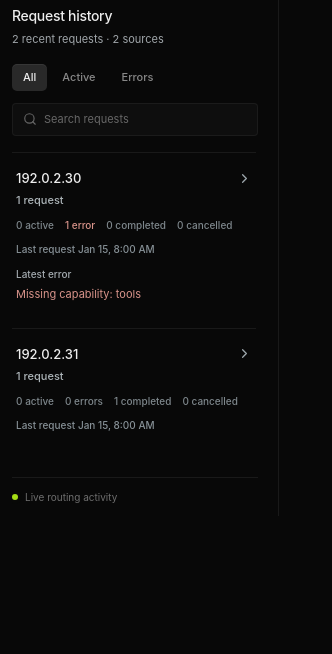
Test: shows preserved legacy failure reasons without treating a completed request's rejected alternative as an error
expect the text "Missing capability: tools" is shown once: met, box [16, 268, 141, 301]
Click the 5th button. click: coordinates (134, 389)
box: [12, 336, 256, 443]
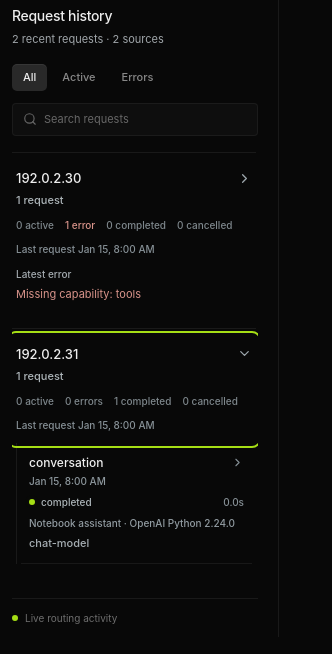
expect the text "chat-model" is shown: met, box [29, 536, 89, 550]
